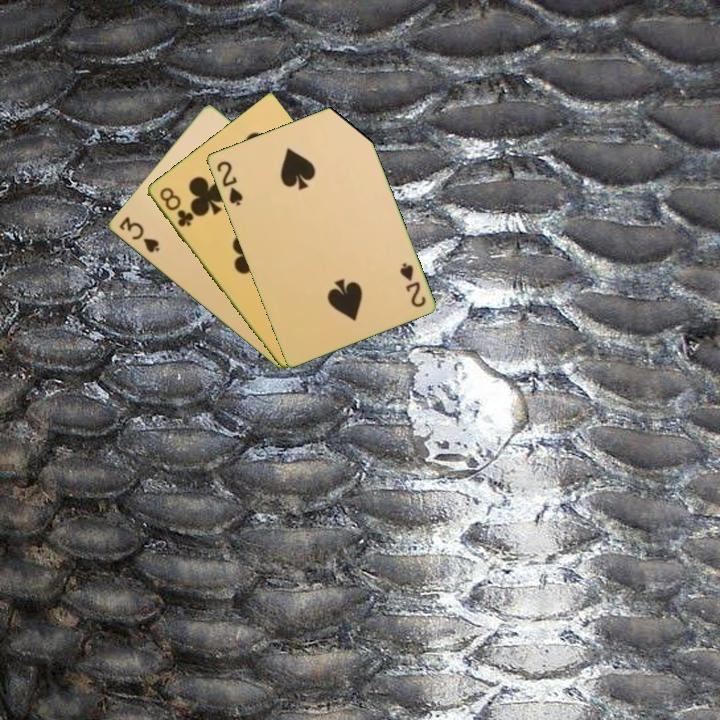2s: (213, 157, 245, 209), (396, 259, 428, 310)
3s: (115, 213, 162, 256)
8c: (156, 183, 196, 230)
